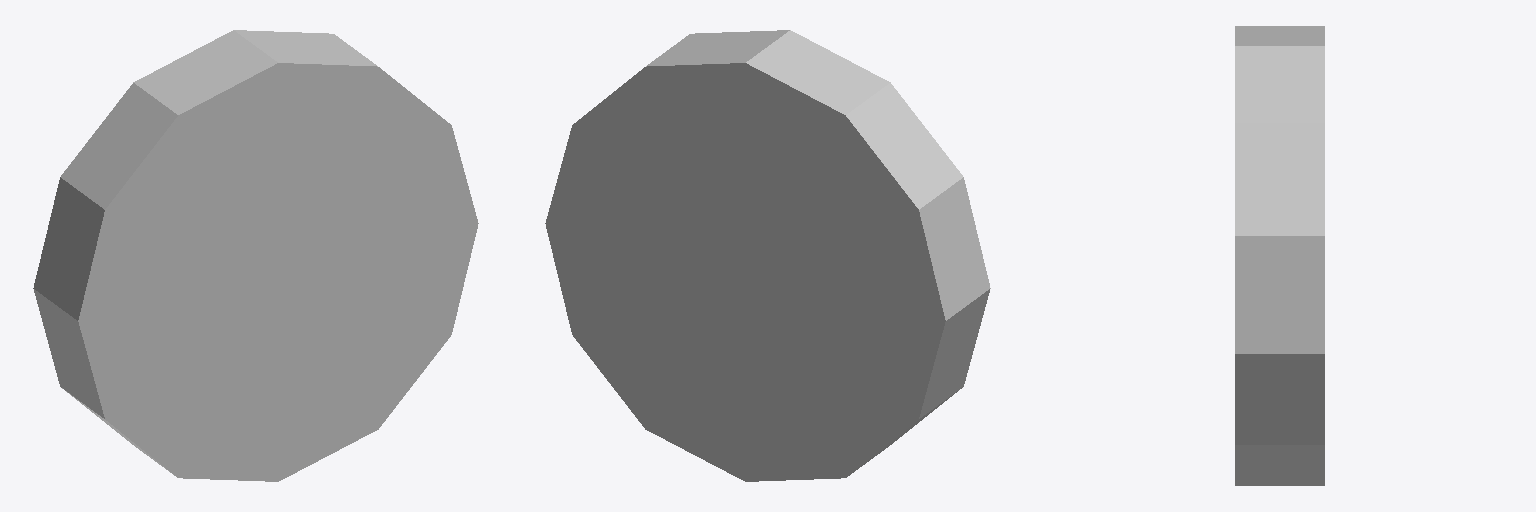
Rendered from coin2.obj.
3 views of the same model, side by side, from view 1: azimuth 30°, elevation 25°; view 2: azimuth 150°, elevation 25°; view 3: azimuth 270°, elevation 25° (orthographic).
Parts seen in each view (by area): view 1: Cylinder; view 2: Cylinder; view 3: Cylinder.
Boxes of the visible parts, x1,y1,x2,y2 form: Cylinder: [33, 30, 478, 481]; Cylinder: [545, 30, 990, 481]; Cylinder: [1235, 26, 1324, 485].
Bounding box in the file's own units: 17.1 × 17.1 × 3.33.